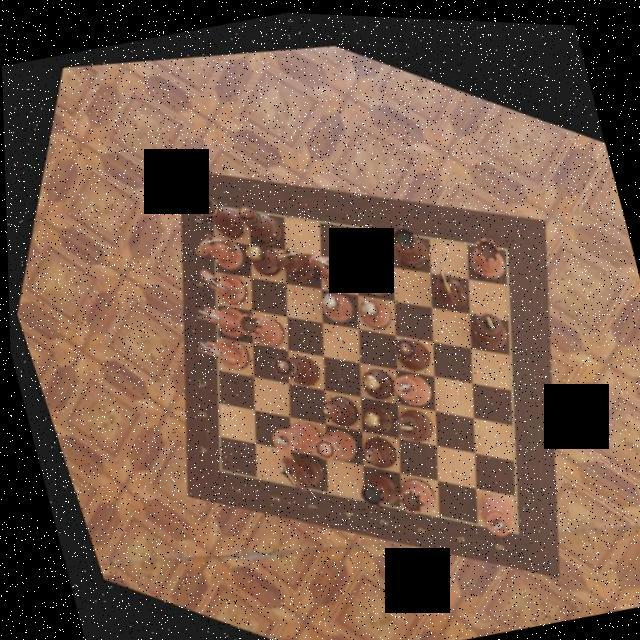chess-table-corners: (186, 174, 230, 219), (484, 496, 525, 538), (482, 220, 512, 248), (200, 454, 223, 478)
